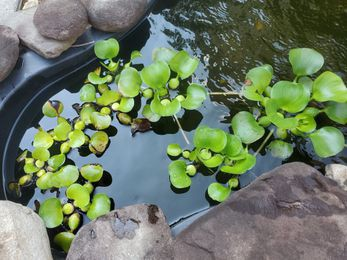water_hyacinth: (15, 38, 345, 229)
